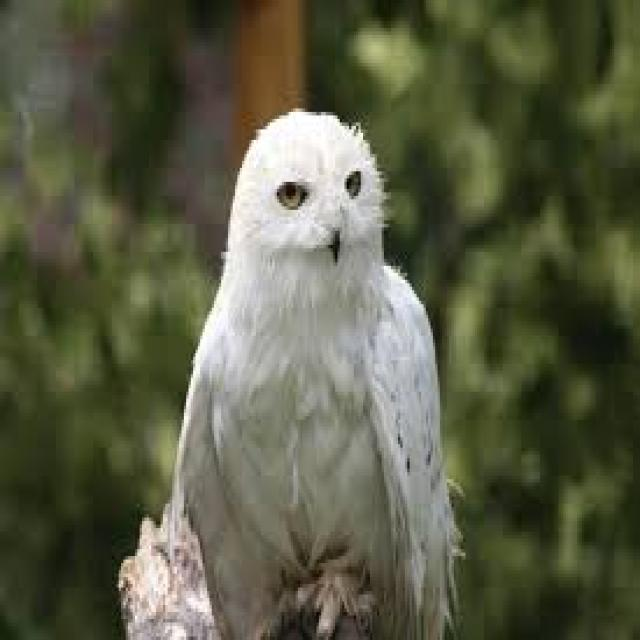snowy owl: (125, 91, 478, 634)
